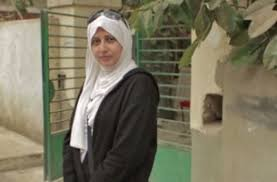middle_eastern_Female: (81, 16, 133, 75)
